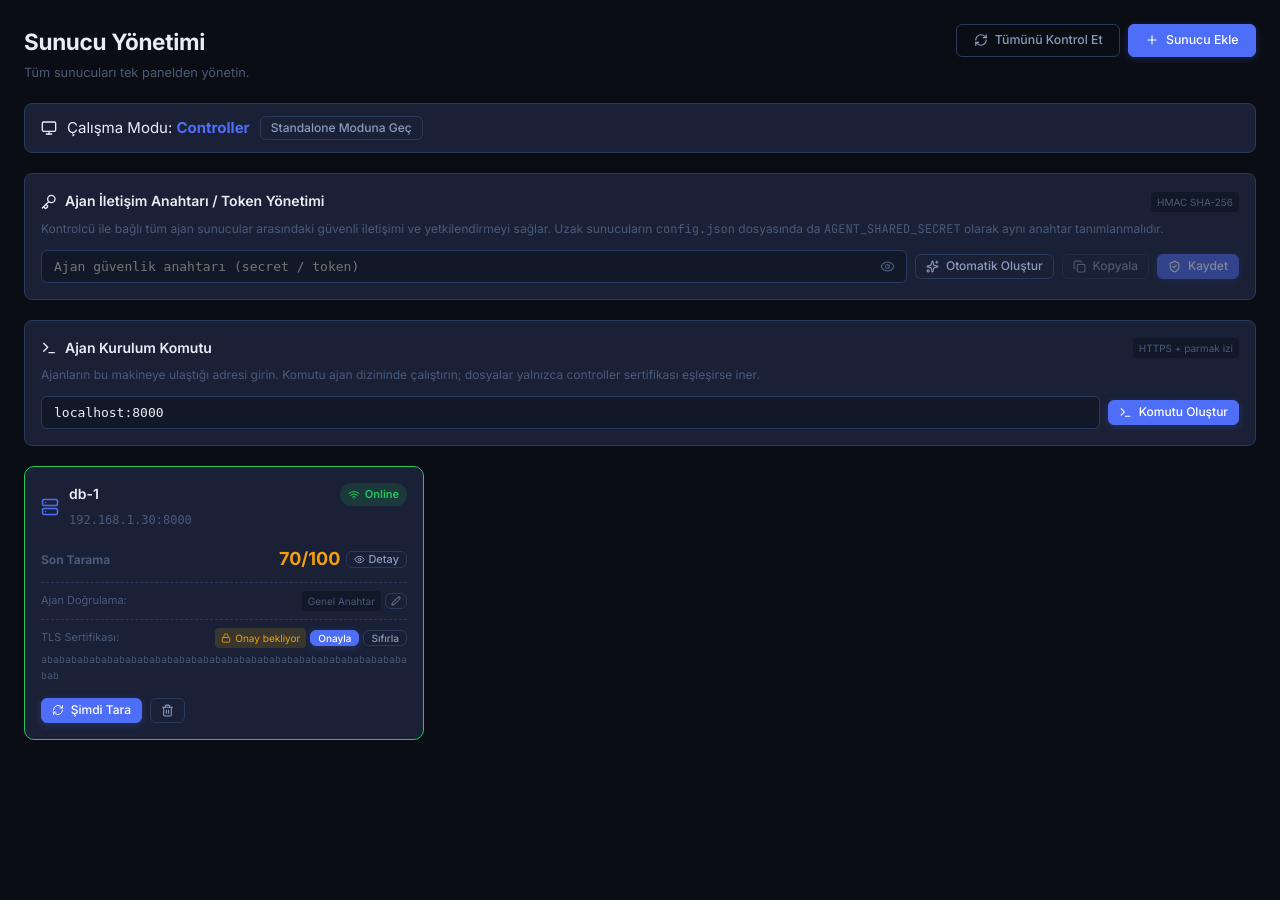
Test case: ServerManagement ajan TLS sertifikası › onay bekleyen sertifikayı parmak iziyle onaylar
This screenshot has width=1280, height=900.
What coordinates should you click on to do the following:
click the button "Onayla"
I would click on:
 (335, 638)
Its box is [310,630,360,646].
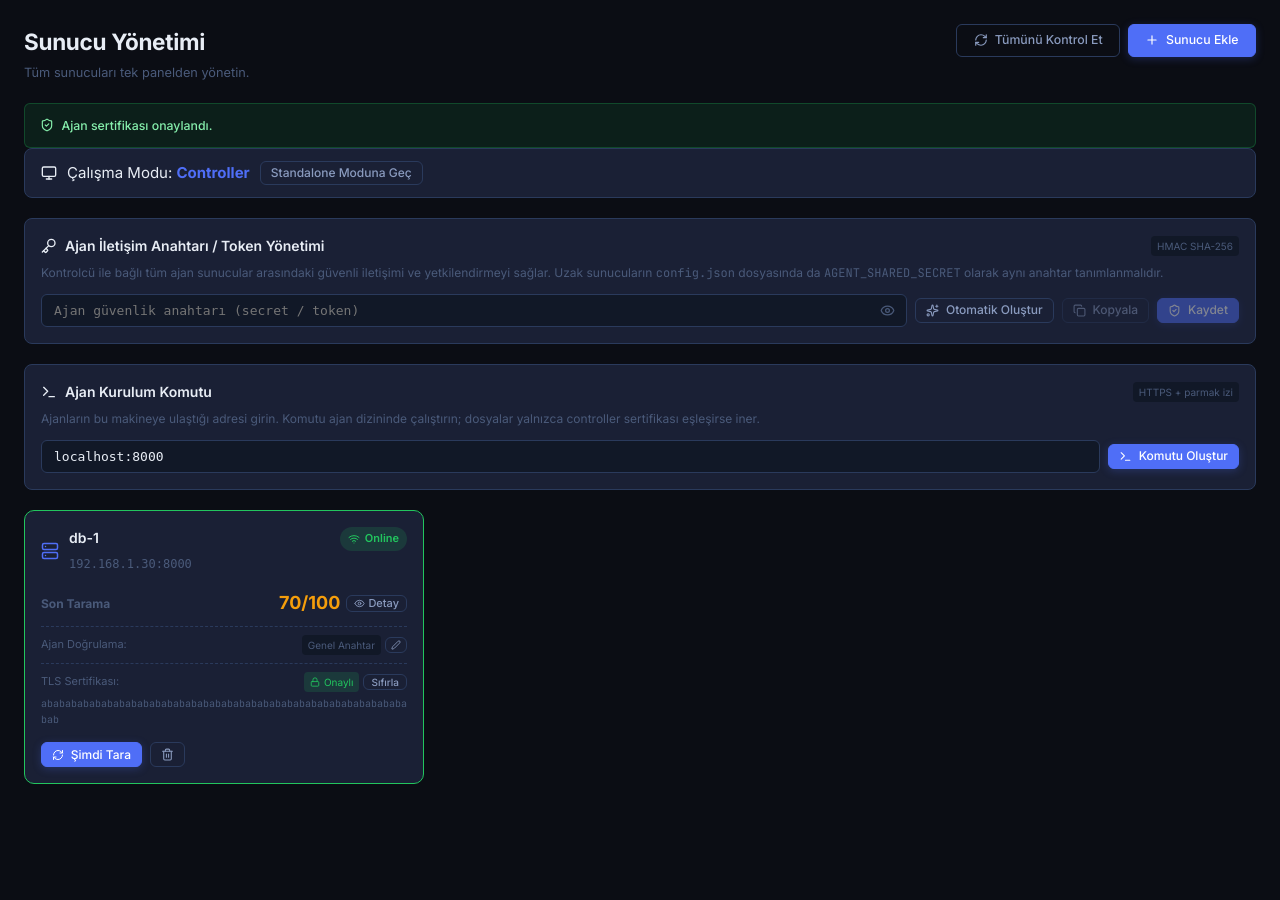
Now the text "Onaylı" is shown, box [304,672,359,692]
